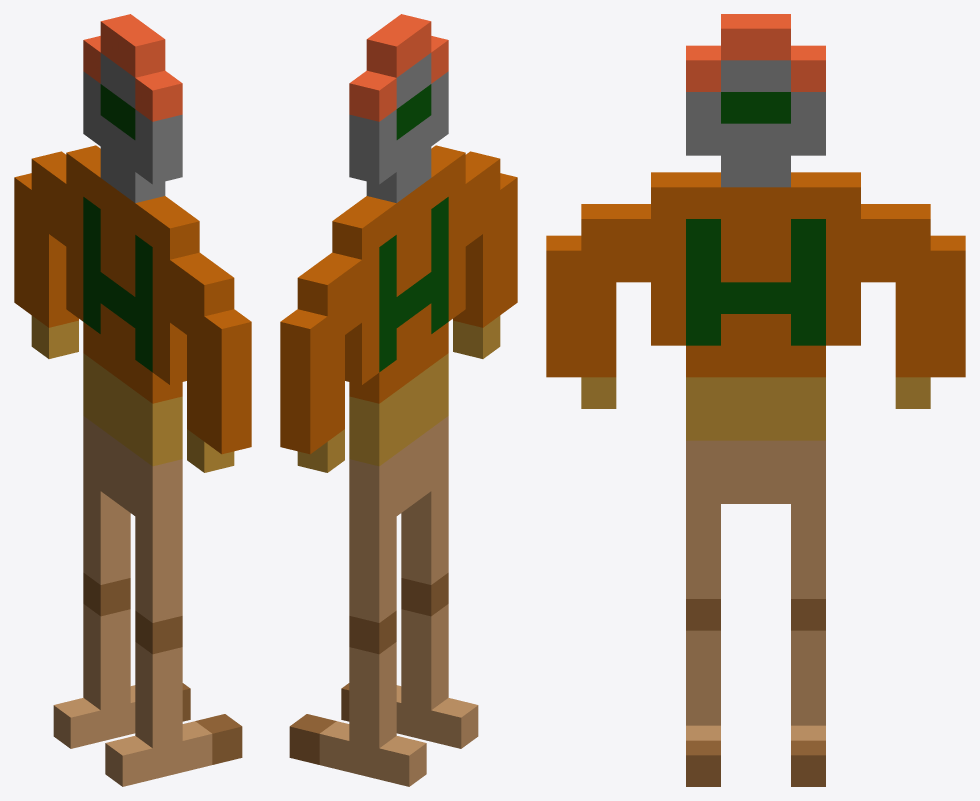
The model's file is grup8-haydut.fbx.
The picture shows the model from 3 angles, left to right: view 1: azimuth 30°, elevation 25°; view 2: azimuth 150°, elevation 25°; view 3: azimuth 270°, elevation 25°; orthographic projection.
Parts seen in each view (by area): view 1: Untitled.075; view 2: Untitled.075; view 3: Untitled.075.
Boxes of the visible parts, <box> form: Untitled.075: <box>14,14,251,786</box>; Untitled.075: <box>280,14,517,786</box>; Untitled.075: <box>546,14,965,786</box>.
Bounding box in the file's own units: 80 × 460 × 240.
Materials: 1 (1 with a texture image).
